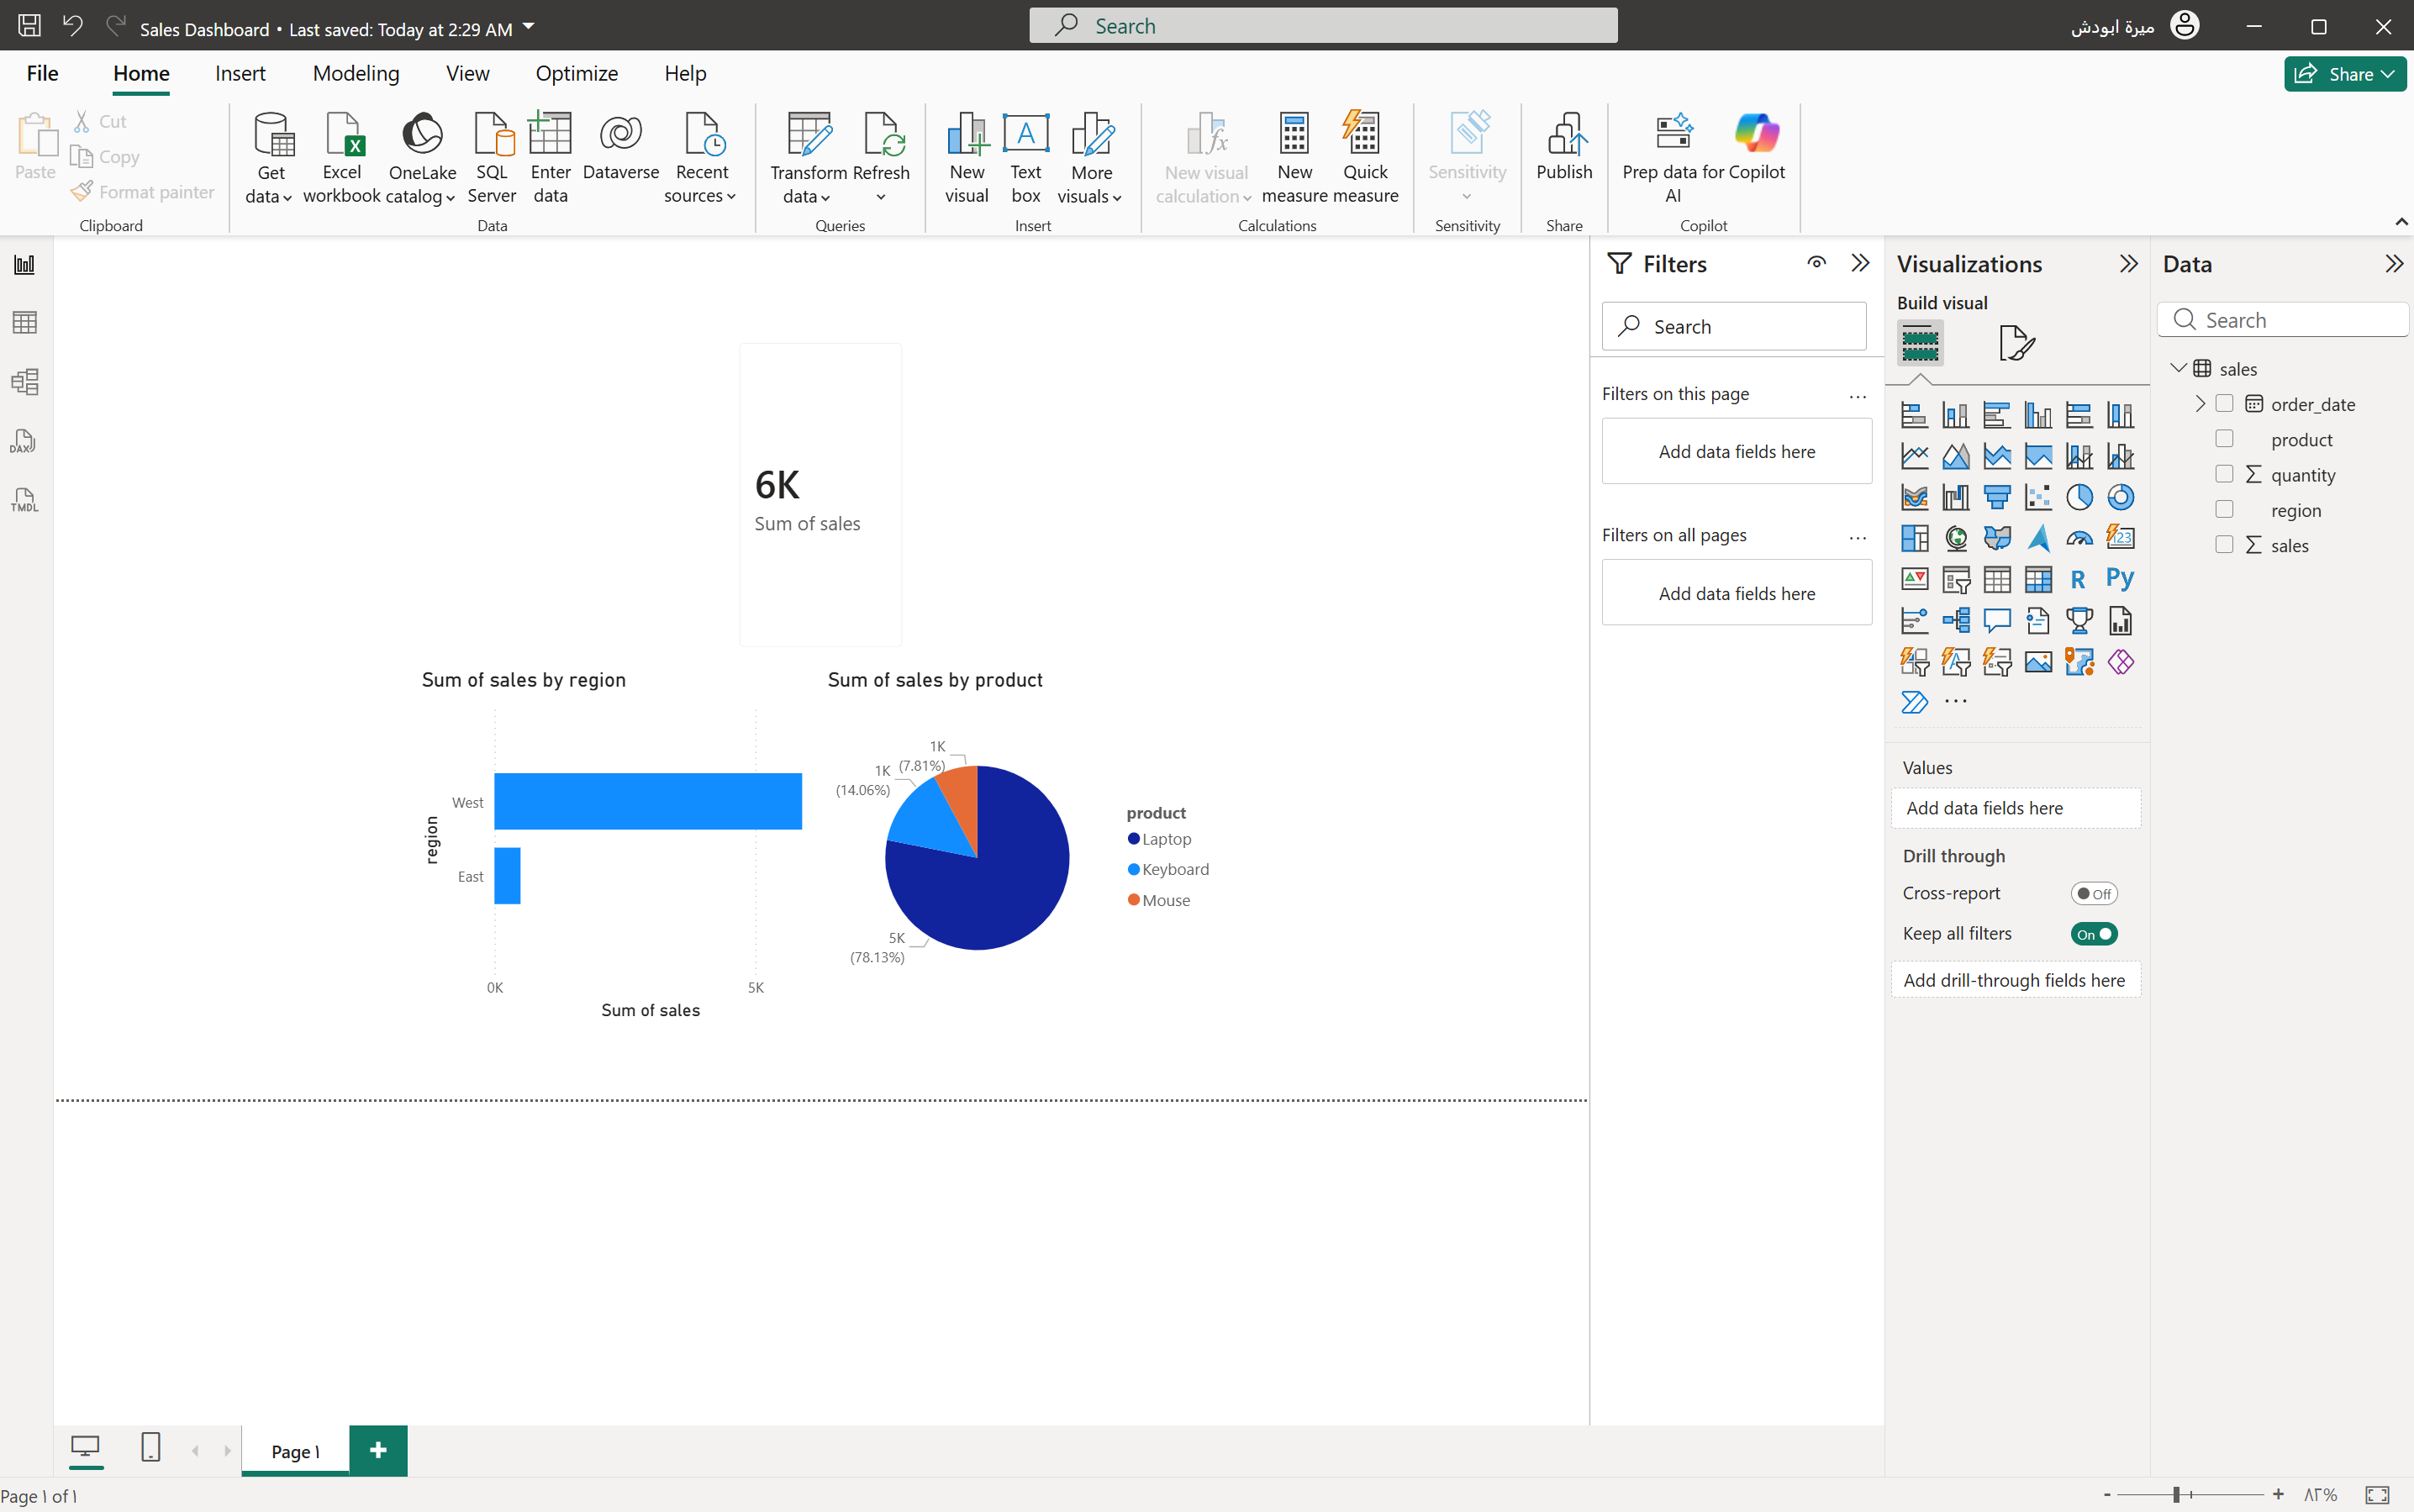

This screenshot's page, from the dashboard's own definition file:
{"tool":"powerbi","page":{"name":"Page ١","canvas":[1280,720],"ordinal":0},"visuals":[{"type":"cardVisual","fields":{"Data":["Sum(sales.sales)"]},"box":[554.2,72.3,170.4,288.1],"z":0},{"type":"barChart","fields":{"Category":["sales.region"],"Y":["Sum(sales.sales)"]},"box":[301.6,360.5,338.4,297.9],"z":1},{"type":"pieChart","fields":{"Category":["sales.product"],"Y":["Sum(sales.sales)"]},"box":[640,360.5,338.4,297.9],"z":2}]}

Visuals, with their boxes on the page's 1280x720 design canvas (x1, y1, x2, y2). These are canvas units, not pixel positions in the 2414x1512 screenshot, which may show the page scaled, cropped or inside an application window:
cardVisual - Sum(sales.sales): Rect(554, 72, 725, 360)
barChart - sales.region x Sum(sales.sales): Rect(302, 360, 640, 658)
pieChart - sales.product x Sum(sales.sales): Rect(640, 360, 978, 658)
